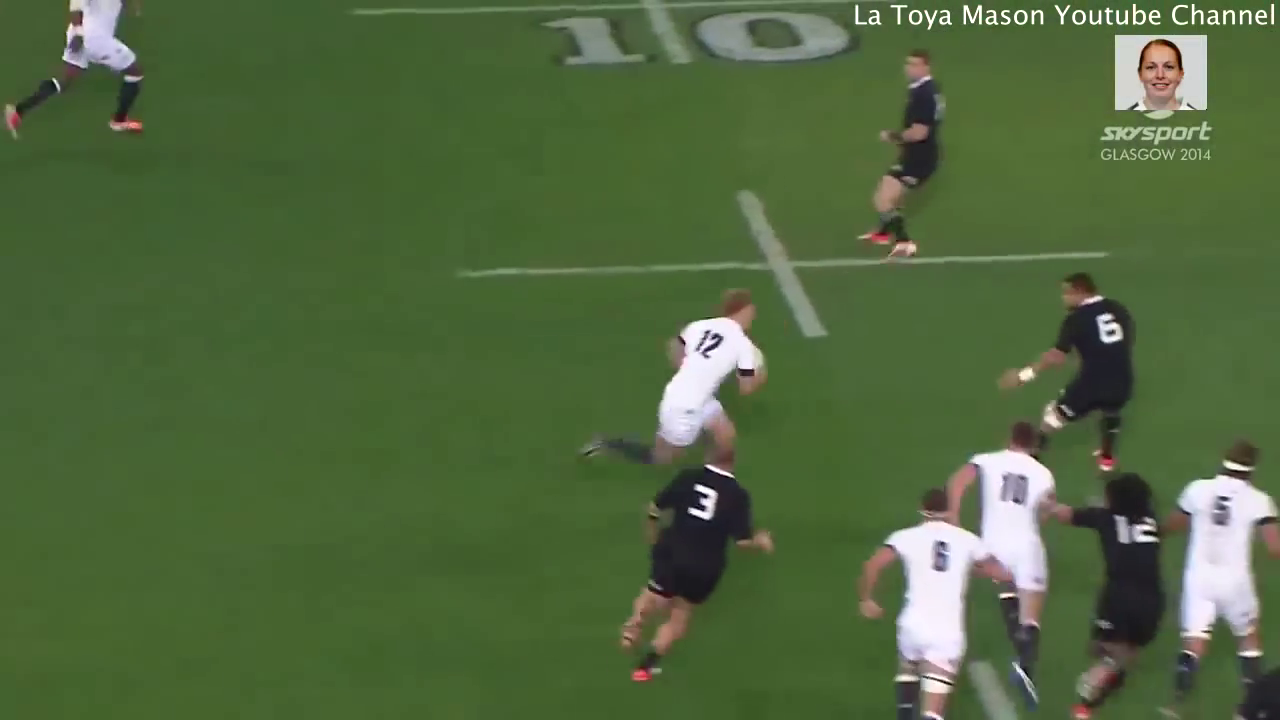10_metre: (437, 167, 1140, 350), (332, 1, 861, 60)
player: (583, 433, 773, 692), (843, 480, 1044, 720), (569, 280, 779, 478), (1149, 426, 1280, 720), (943, 420, 1072, 718), (1033, 461, 1175, 720), (985, 272, 1136, 472), (855, 43, 954, 275), (1, 1, 153, 150)
